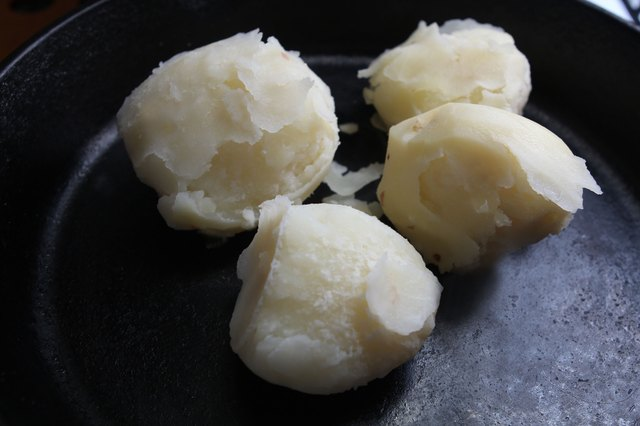boiled potatoes: (137, 46, 325, 209), (241, 216, 420, 374), (376, 114, 574, 243), (371, 25, 524, 120)
